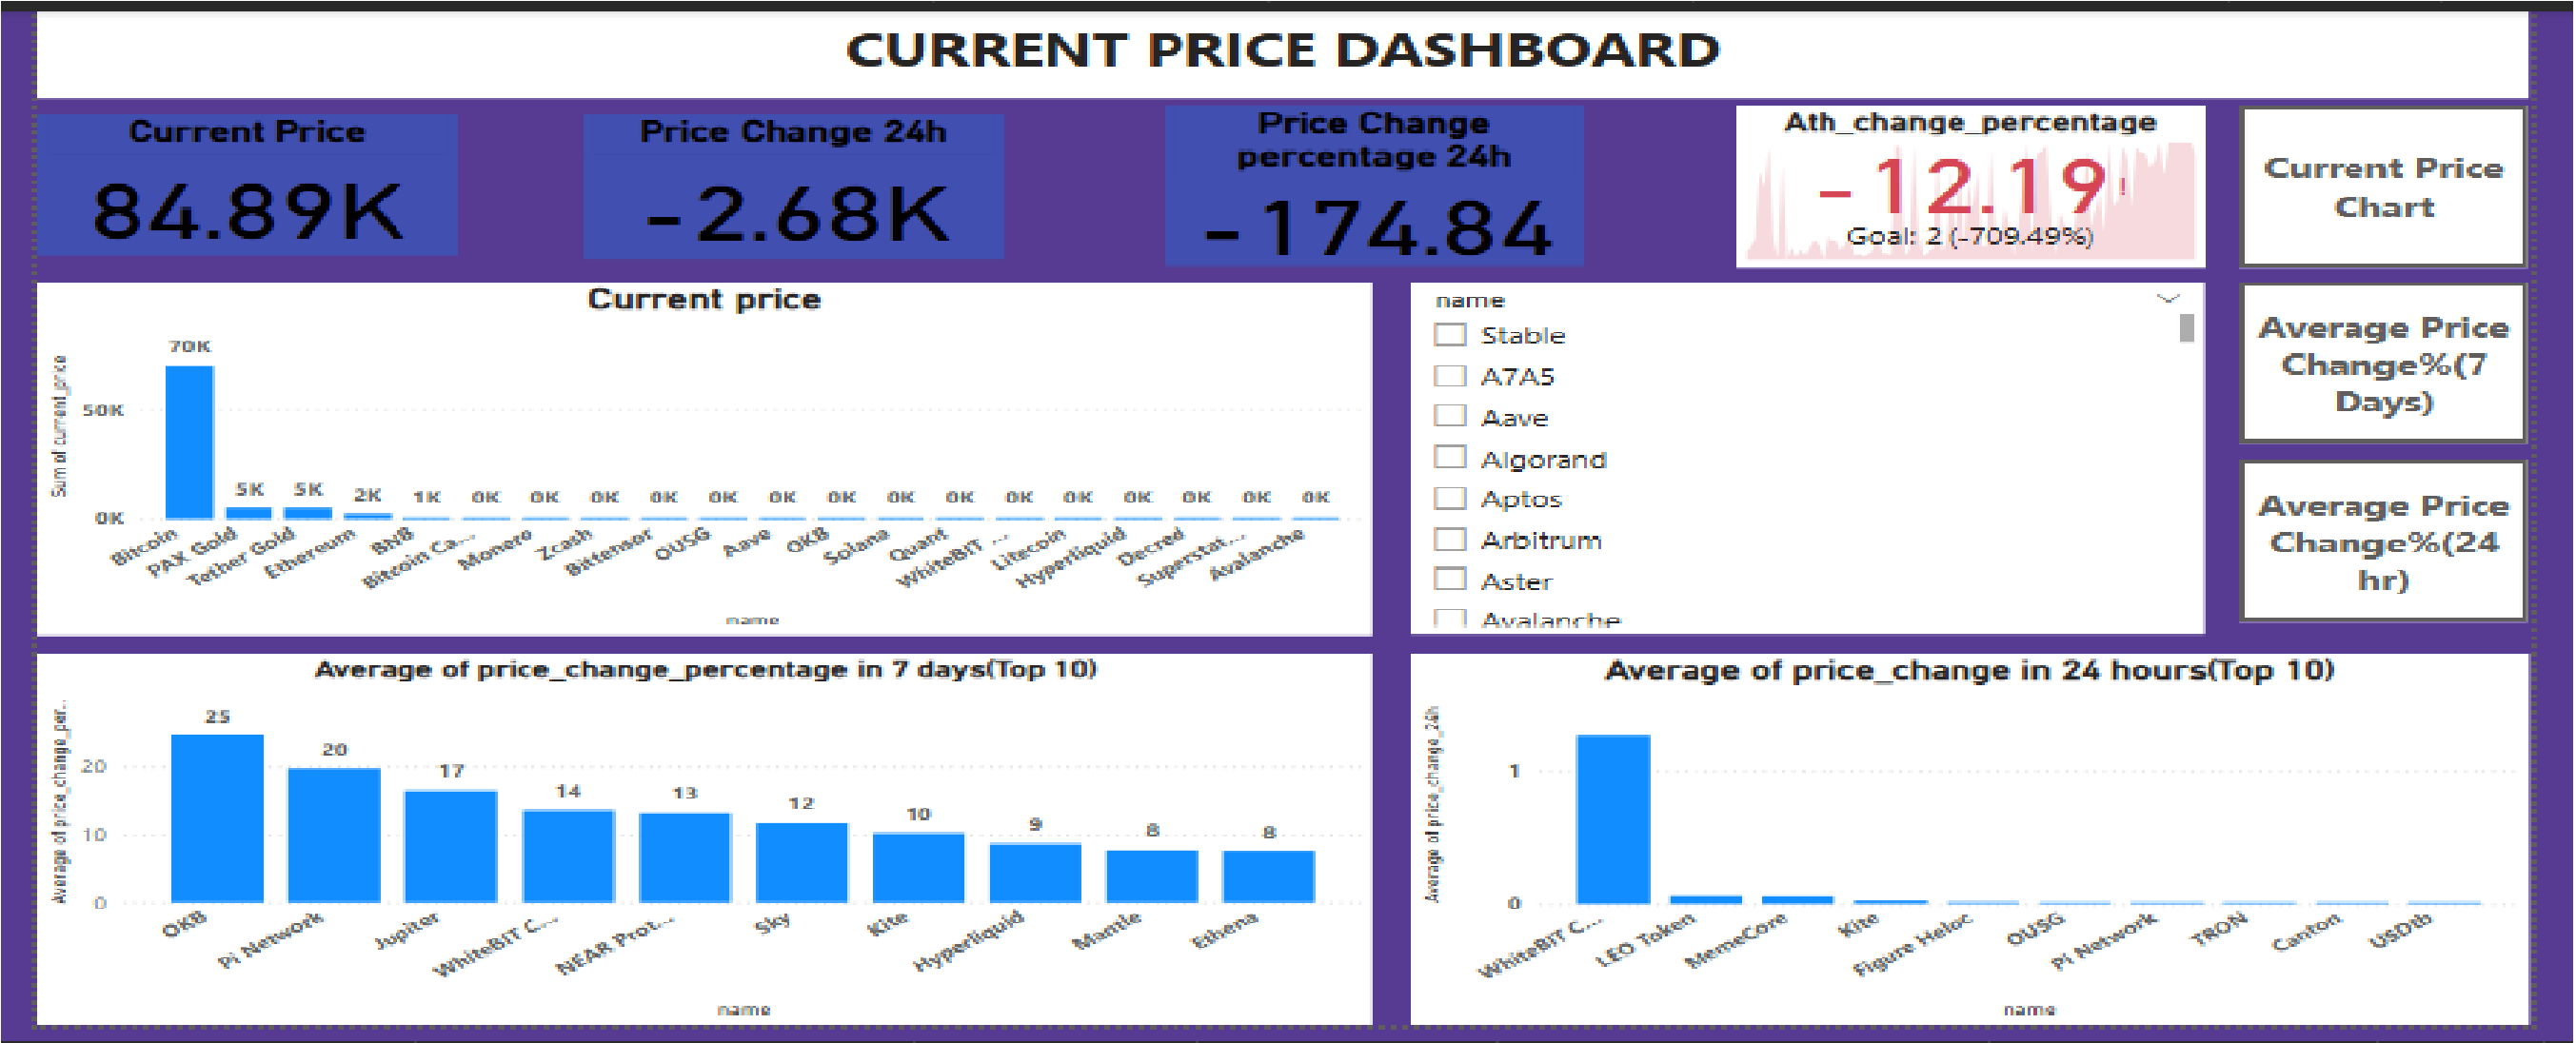

The page's visual inventory and layout, read from the dashboard file:
{"tool":"powerbi","page":{"name":"Current Price Dashboard","canvas":[1280,720],"ordinal":6},"visuals":[{"type":"textbox","box":[0,0,1279.8,61.7],"z":0},{"type":"clusteredColumnChart","title":"Average of price_change in 24 hours(Top 10)","fields":{"Category":["cryptobi.name"],"Y":["Avg(cryptobi.price_change_24h)"]},"box":[705.3,457,574.5,263],"z":1000},{"type":"clusteredColumnChart","title":"Current price","fields":{"Category":["cryptobi.name"],"Y":["Sum(cryptobi.current_price)"]},"box":[0,192.5,686.2,251.3],"z":2000},{"type":"card","title":"Current Price","fields":{"Values":["Sum(cryptobi.current_price)"]},"box":[0,73.5,216,101.4],"z":3000},{"type":"card","title":"Price Change 24h","fields":{"Values":["Sum(cryptobi.price_change_24h)"]},"box":[280.7,73.5,216,102.9],"z":4000},{"type":"clusteredColumnChart","title":"Average of price_change_percentage in 7 days(Top 10)","fields":{"Category":["cryptobi.name"],"Y":["Avg(cryptobi.price_change_percentage_7d_in_currency)"]},"box":[0,457,686.2,263],"z":5000},{"type":"slicer","fields":{"Values":["cryptobi.name"]},"box":[705.3,192.5,408.5,249.8],"z":6000},{"type":"card","title":"Price Change percentage 24h","fields":{"Values":["Sum(cryptobi.price_change_percentage_24h_in_currency)"]},"box":[578.4,67,216.1,114.1],"z":7000},{"type":"kpi","title":"Ath_change_percentage","fields":{"TrendLine":["cryptobi.ath_date"],"Goal":["cryptobi.target"],"Indicator":["Sum(cryptobi.ath_change_percentage)"]},"box":[872.8,67.6,241,114.6],"z":8000},{"type":"actionButton","box":[1131.4,67.6,148.4,114.6],"z":9000},{"type":"actionButton","box":[1131.4,192.5,148.4,114.6],"z":10000},{"type":"actionButton","box":[1131.4,318.9,148.4,114.6],"z":11000}]}

Visuals, with their boxes on the page's 1280x720 design canvas (x1, y1, x2, y2). These are canvas units, not pixel positions in the 2576x1043 screenshot, which may show the page scaled, cropped or inside an application window:
textbox: 0 0 1280 62
"Average of price_change in 24 hours(Top 10)" clusteredColumnChart: 705 457 1280 720
"Current price" clusteredColumnChart: 0 192 686 444
"Current Price" card: 0 74 216 175
"Price Change 24h" card: 281 74 497 176
"Average of price_change_percentage in 7 days(Top 10)" clusteredColumnChart: 0 457 686 720
slicer - cryptobi.name: 705 192 1114 442
"Price Change percentage 24h" card: 578 67 794 181
"Ath_change_percentage" kpi: 873 68 1114 182
actionButton: 1131 68 1280 182
actionButton: 1131 192 1280 307
actionButton: 1131 319 1280 434
